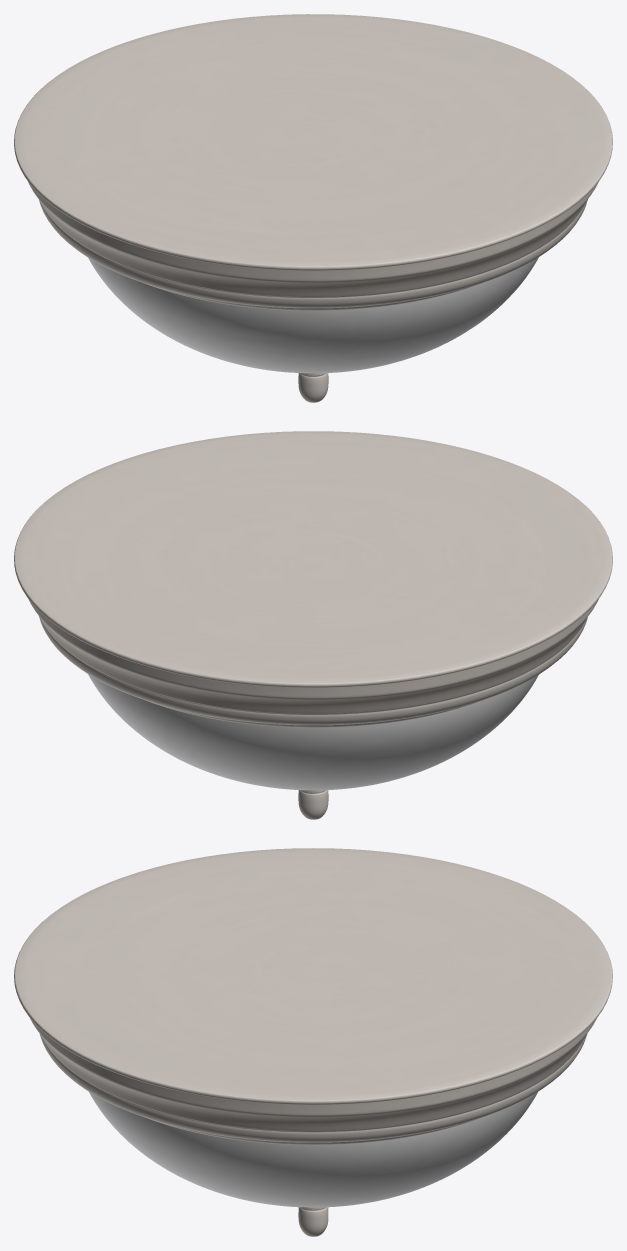
File: abo-B0828F62FS.glb
The picture shows the model from 3 angles, top to bottom: view 1: azimuth 30°, elevation 25°; view 2: azimuth 150°, elevation 25°; view 3: azimuth 270°, elevation 25°; orthographic projection.
Size of the model in its own units: 0.28 by 0.135 by 0.28.
Materials: 1 (1 with a texture image).
